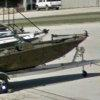Boat: (1, 9, 91, 80)
